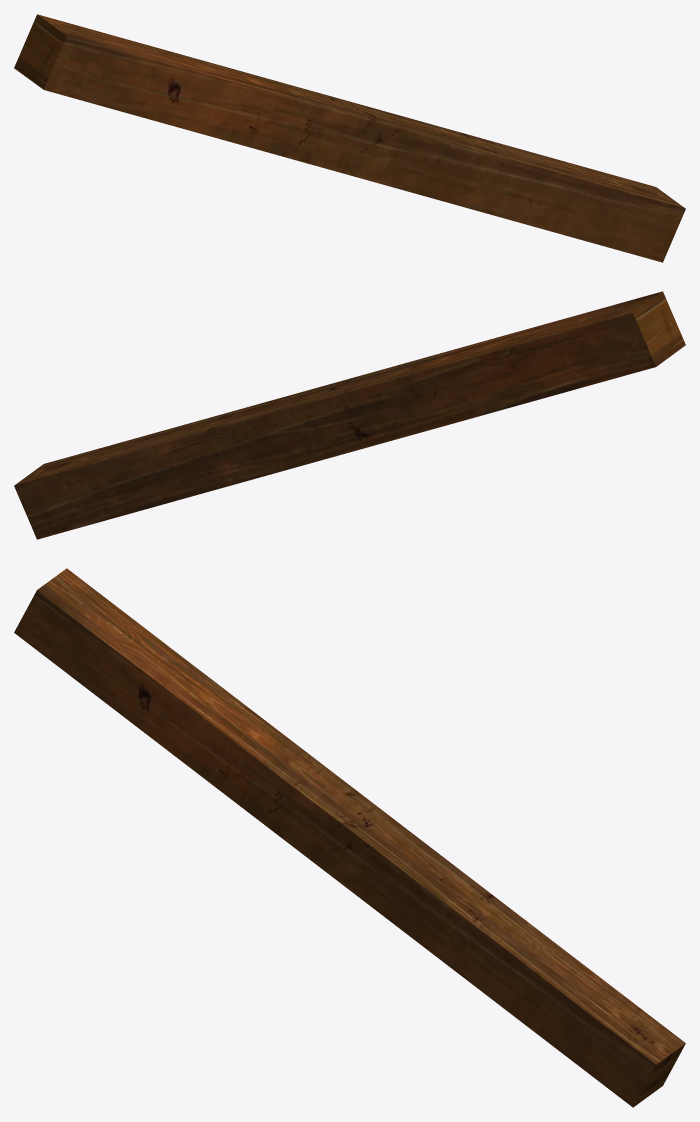
3 views of the same model, one above another, from view 1: azimuth 30°, elevation 25°; view 2: azimuth 150°, elevation 25°; view 3: azimuth 330°, elevation 25° (orthographic).
Visible parts, largest first — view 1: SM_BB_T2_Beam_Thin_Large_Shallow_LOD0; view 2: SM_BB_T2_Beam_Thin_Large_Shallow_LOD0; view 3: SM_BB_T2_Beam_Thin_Large_Shallow_LOD0.
Part boxes in pixels (left/top/right/bottom): SM_BB_T2_Beam_Thin_Large_Shallow_LOD0: left=14, top=14, right=685, bottom=262; SM_BB_T2_Beam_Thin_Large_Shallow_LOD0: left=14, top=291, right=685, bottom=539; SM_BB_T2_Beam_Thin_Large_Shallow_LOD0: left=14, top=568, right=685, bottom=1107.
Size of the model in its own units: 3.11 by 1.72 by 0.2509.
1 material, 1 textured.
